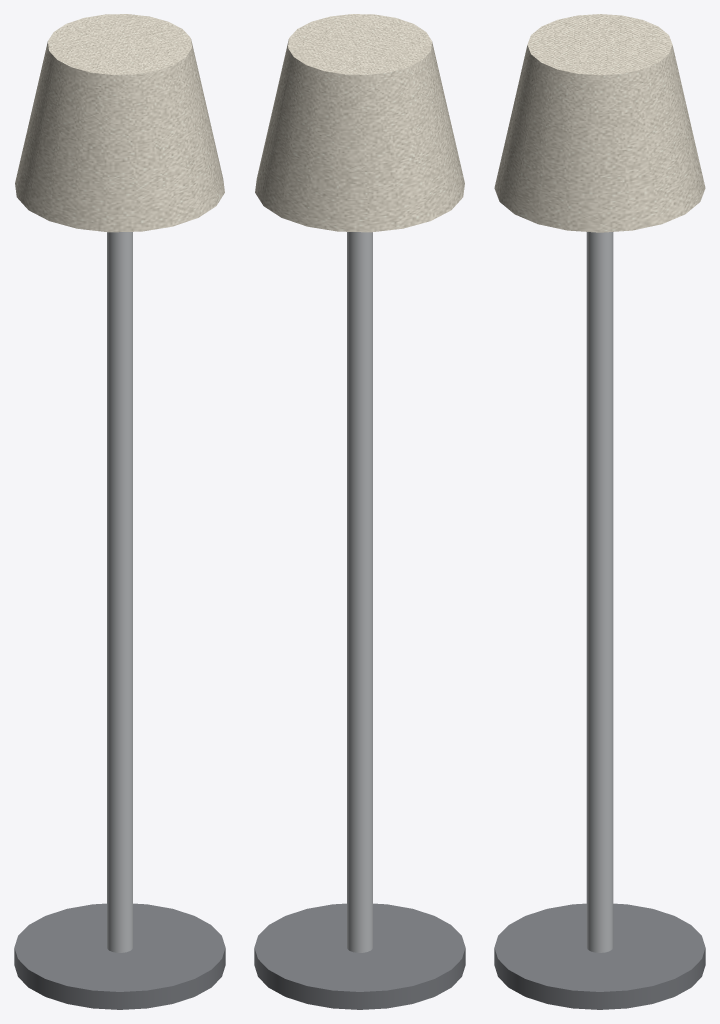
Rendered from floor_lamp.glb.
3 renders of one model, left to right at view 1: azimuth 30°, elevation 25°; view 2: azimuth 150°, elevation 25°; view 3: azimuth 270°, elevation 25°, orthographic.
Visible parts, largest first — view 1: shade, pole, base; view 2: shade, pole, base; view 3: shade, pole, base.
Boxes of the visible parts, x1,y1,x2,y2 form: shade: (15,14,224,232); pole: (107,232,132,952); base: (14,903,225,1009); shade: (255,14,464,232); pole: (347,232,372,952); base: (254,903,465,1009); shade: (494,14,705,232); pole: (586,232,613,952); base: (494,903,705,1009).
Bounding box in the file's own units: 0.32 × 1.54 × 0.32.
Materials: 4 (1 with a texture image).
